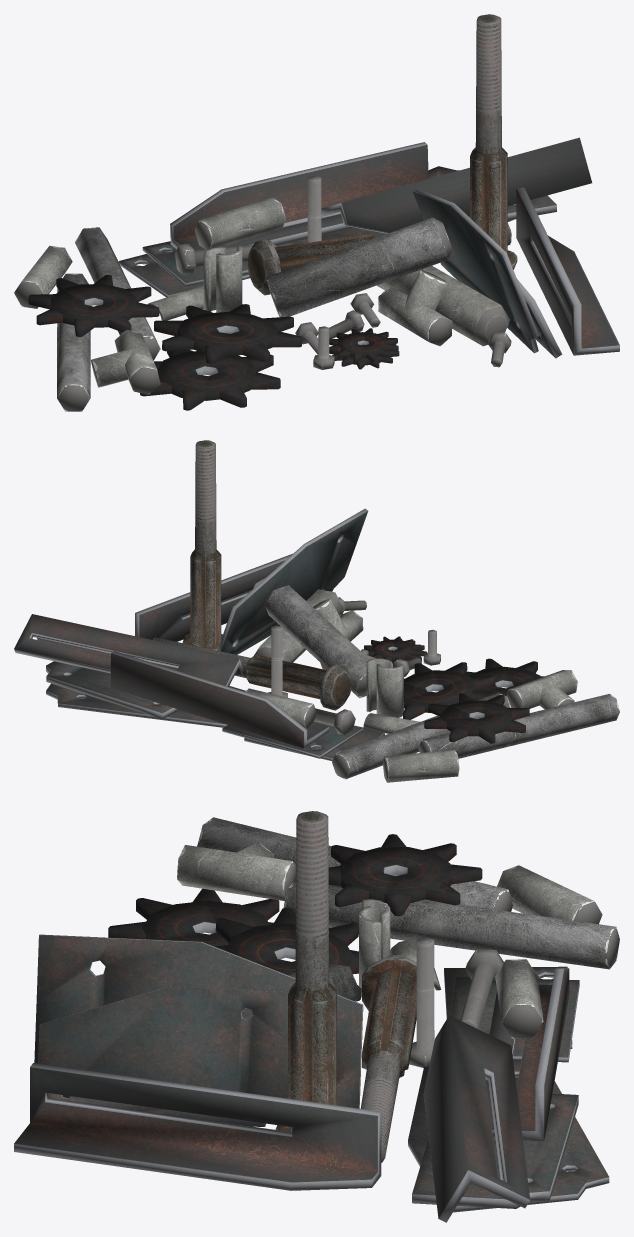
File: scrap_pile_sketchfab.glb
3 renders of one model, top to bottom at view 1: azimuth 30°, elevation 25°; view 2: azimuth 150°, elevation 25°; view 3: azimuth 270°, elevation 25°, orthographic. The views are drawn at different scales.
Parts seen in each view (by area): view 1: MetlDet.001; view 2: MetlDet.001; view 3: MetlDet.001.
Part boxes in pixels (x1,y1,x2,y2): MetlDet.001: [14, 14, 619, 411]; MetlDet.001: [14, 440, 619, 782]; MetlDet.001: [14, 811, 619, 1222].
Bounding box in the file's own units: 2 × 0.7742 × 1.31.
Materials: 1 (1 with a texture image).
